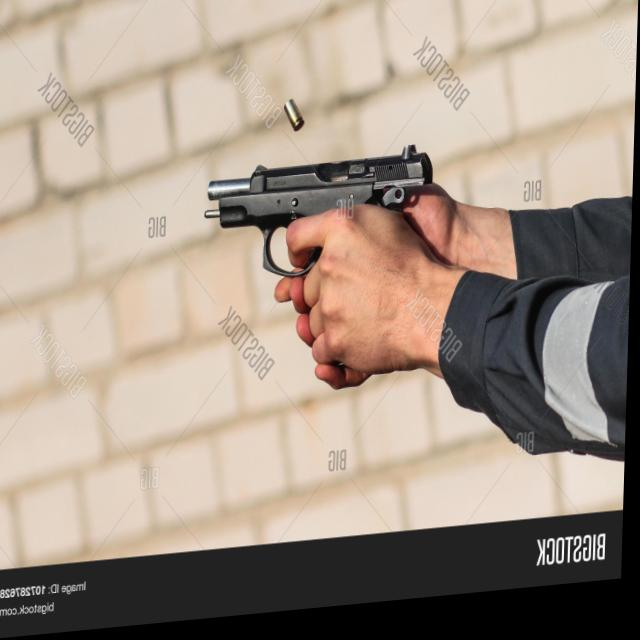handgun: (203, 149, 434, 294)
